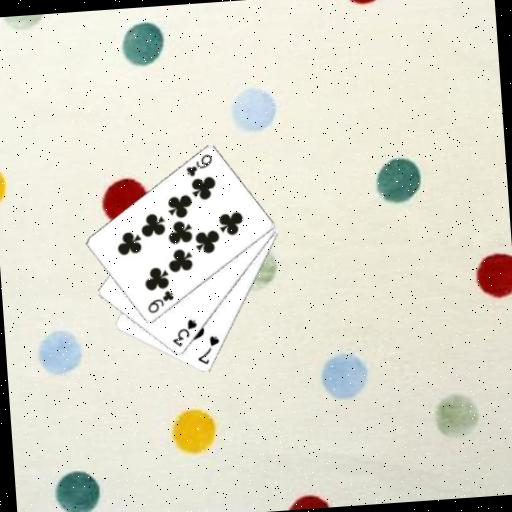3S: (168, 315, 201, 349)
7S: (193, 333, 222, 367)
9C: (144, 288, 177, 317), (182, 151, 215, 180)
